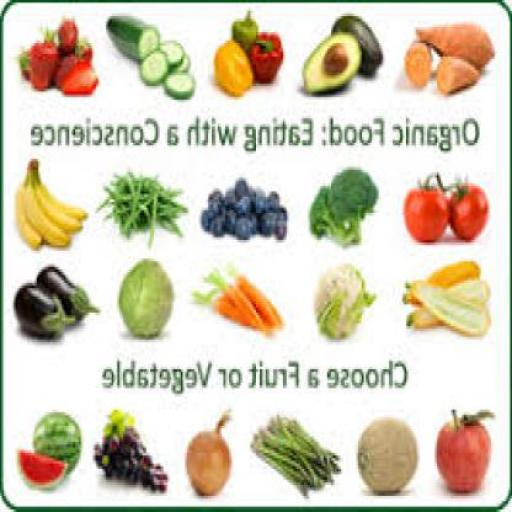biodegradable: (252, 412, 342, 498), (98, 167, 191, 243), (17, 156, 89, 248), (94, 407, 169, 490), (202, 173, 290, 239), (314, 164, 379, 243), (437, 407, 496, 490), (408, 275, 493, 332), (318, 261, 379, 340), (121, 256, 177, 337), (360, 415, 418, 491), (406, 280, 491, 329), (188, 412, 235, 496), (225, 262, 287, 323), (37, 264, 102, 321), (304, 30, 361, 94), (17, 280, 79, 337), (418, 22, 496, 67), (211, 270, 268, 331), (193, 286, 275, 326), (404, 259, 483, 299), (35, 410, 84, 474), (336, 14, 384, 78), (406, 175, 451, 242), (39, 159, 90, 215), (108, 11, 162, 62), (33, 175, 84, 229), (29, 183, 73, 245), (450, 181, 489, 240), (215, 38, 256, 94), (248, 30, 285, 84), (18, 448, 72, 485), (18, 178, 44, 250), (440, 54, 482, 94), (32, 35, 60, 87), (408, 34, 435, 84), (65, 57, 100, 91), (142, 46, 169, 83), (233, 11, 258, 48), (166, 70, 198, 97), (148, 191, 162, 243), (160, 38, 187, 64), (56, 51, 77, 83), (62, 16, 78, 54), (169, 49, 193, 73), (20, 46, 34, 78), (77, 35, 94, 60), (275, 207, 287, 237), (238, 212, 254, 234), (235, 177, 250, 197), (202, 205, 214, 229), (262, 210, 275, 232), (225, 208, 237, 230), (258, 184, 268, 210), (216, 212, 226, 232), (270, 185, 280, 205), (238, 200, 248, 216), (246, 184, 256, 200), (211, 186, 223, 199), (225, 188, 235, 202), (209, 200, 222, 210)
